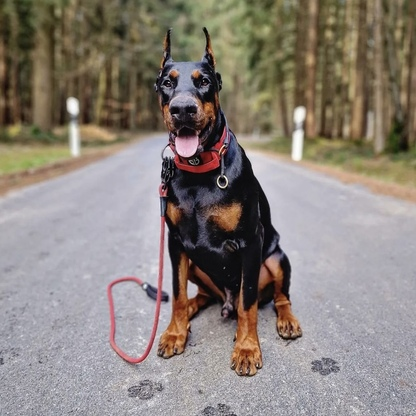doberman: (157, 24, 307, 384)
